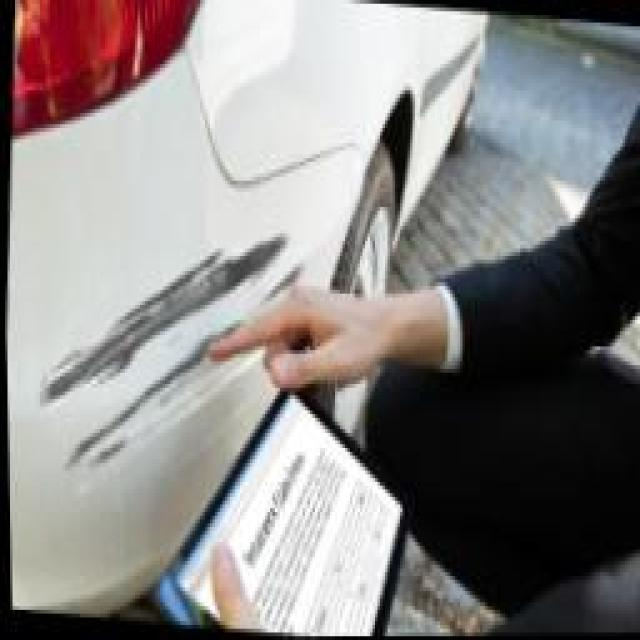Bumper: (2, 154, 344, 579)
